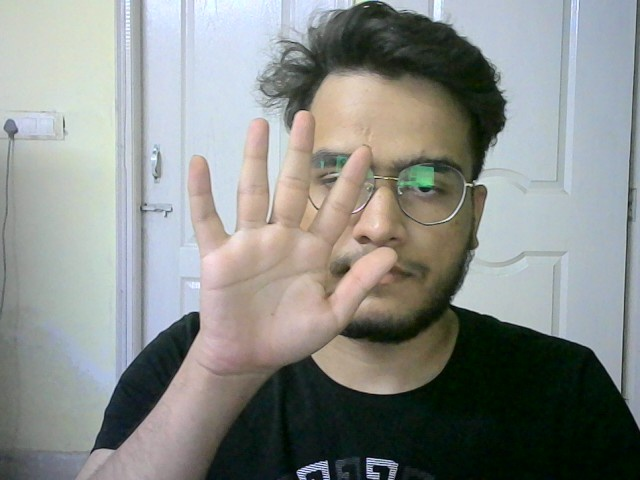Hello: (180, 106, 405, 385)
